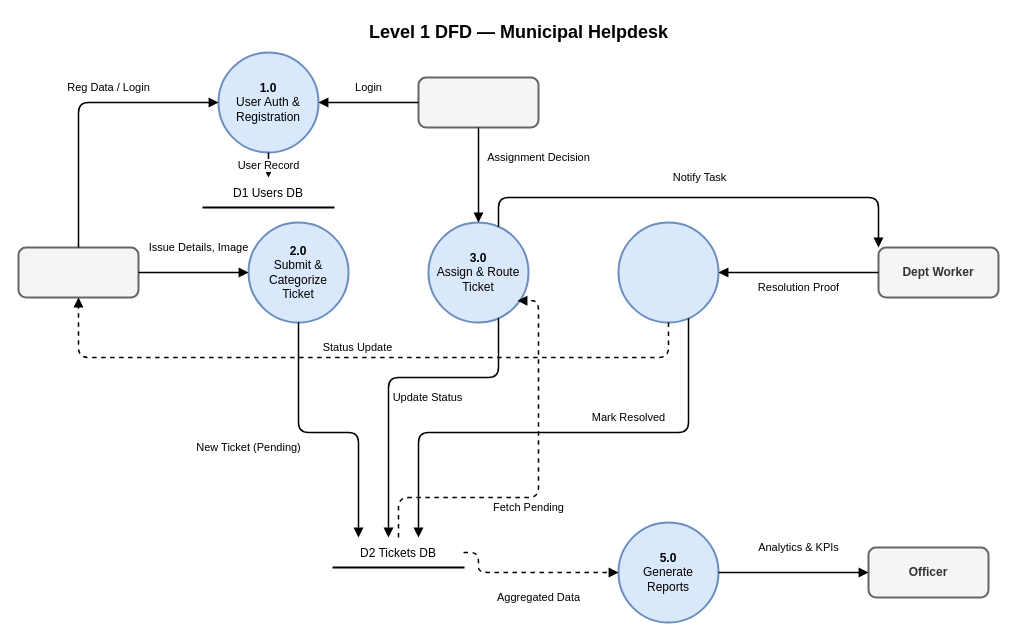
Some shapes in this 1016 by 640 pixel diagram are drawn without their labels. Here are the shapes that lost their labels. From the top down, the centre of each, then its label:
point 478,102: Admin
point 78,272: Citizen
point 668,272: 4.0 Resolve Issue
